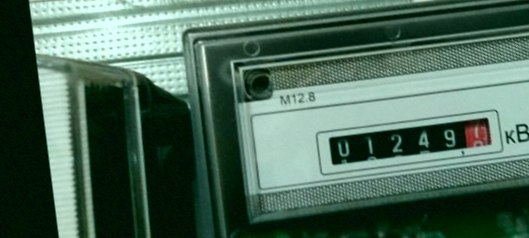0: (335, 136, 351, 158)
1: (362, 133, 376, 155)
2: (387, 130, 405, 154)
4: (415, 127, 431, 149)
7: (469, 117, 484, 139)
9: (441, 126, 457, 148)
screen: (311, 104, 507, 177)
